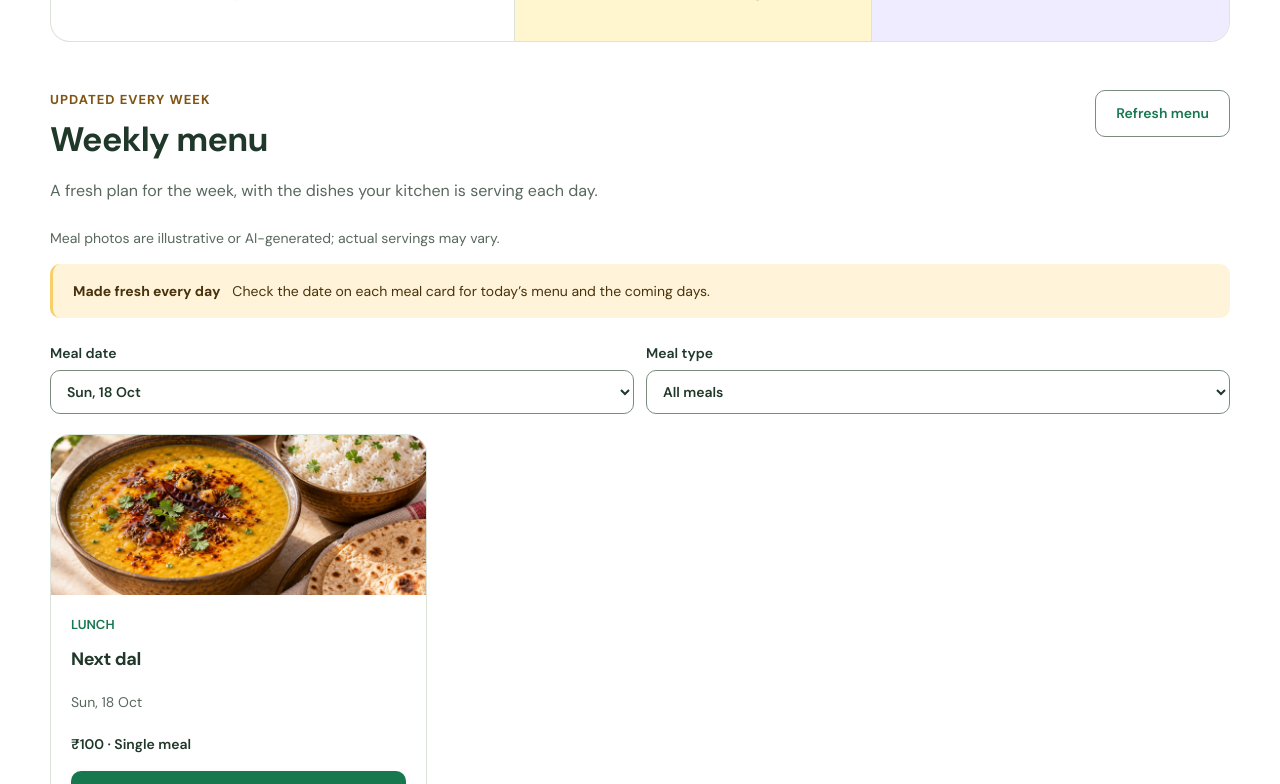
Scenario: retains an unavailable date explicitly and offers recovery in public
(page scrolled)
Check: the heading "Next dal" is shown, box [71, 648, 141, 671]
Select "All dates" in the dropdown labelled "Meal date". click: (342, 392)
box: [50, 370, 634, 414]
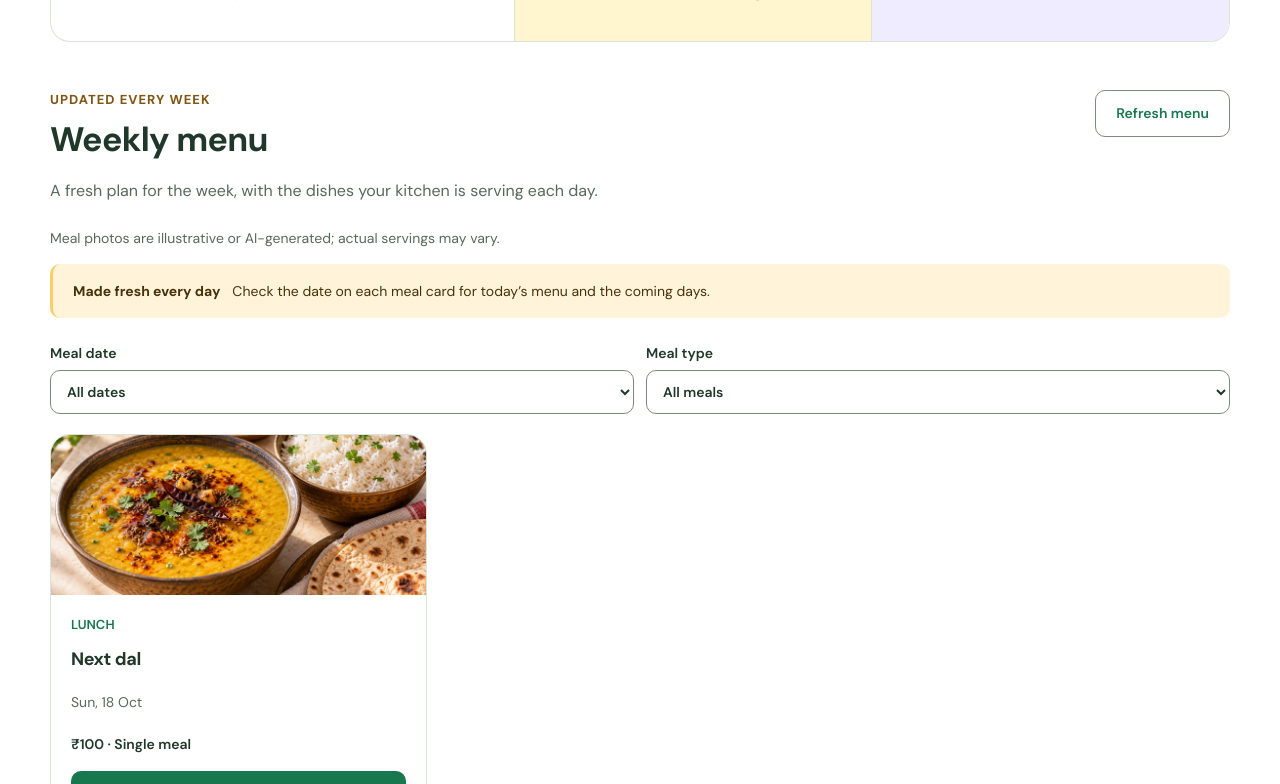
Select "Sun, 18 Oct" in the dropdown labelled "Meal date". click: (342, 392)
box: [50, 370, 634, 414]
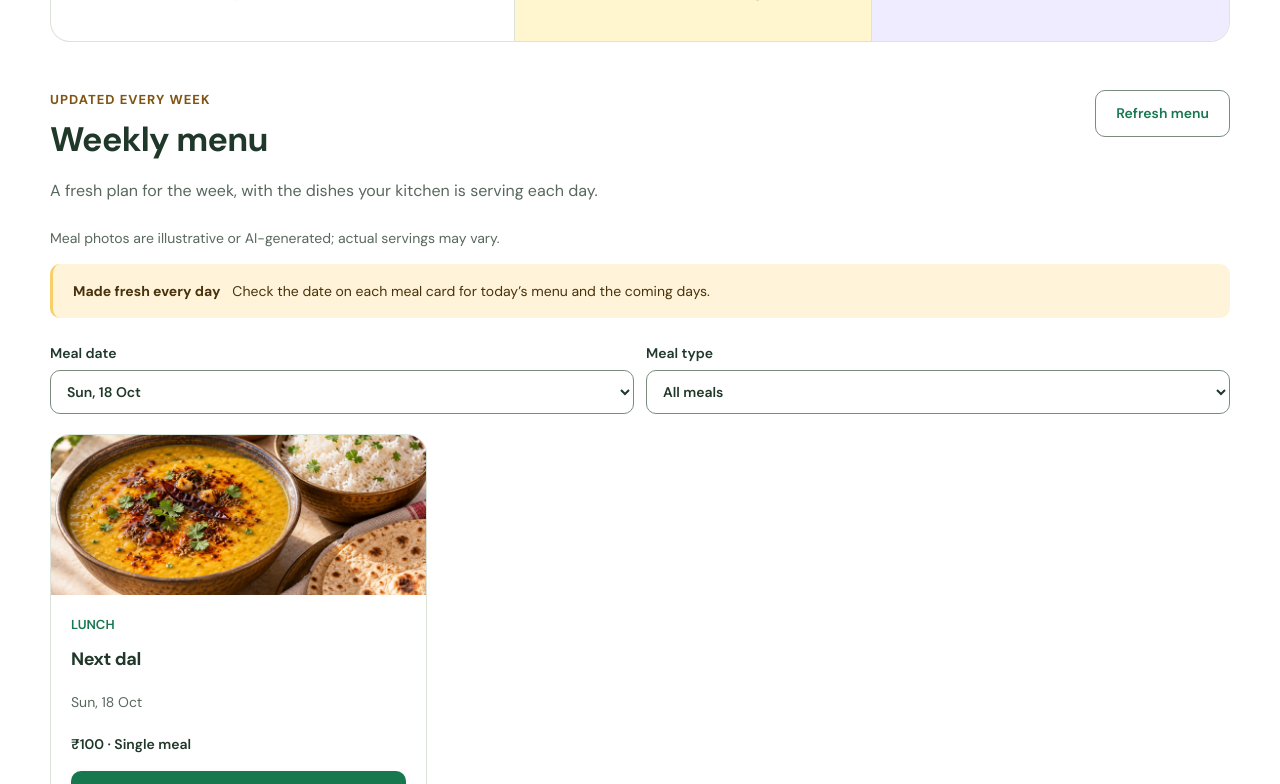
Click the button "Refresh menu". click: (1163, 114)
box: [1095, 90, 1230, 137]
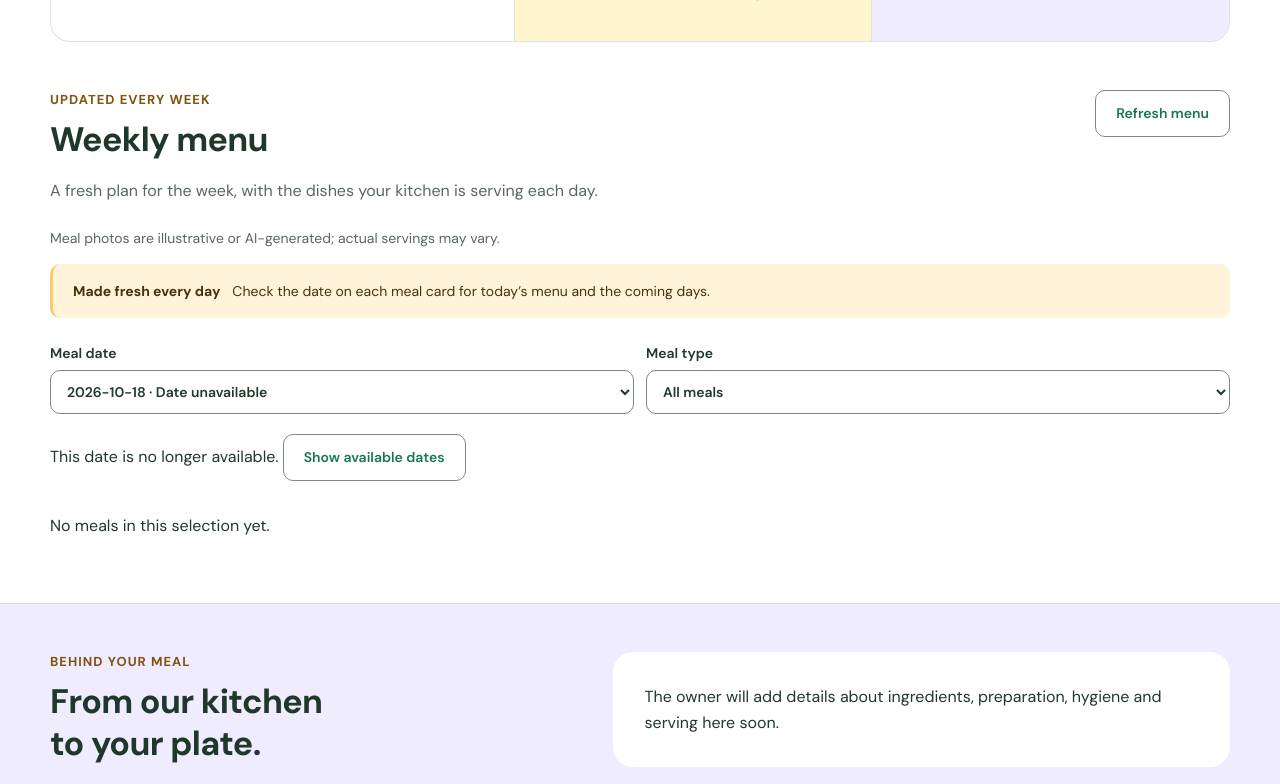
Click the button "Show available dates". click: (374, 458)
box: [283, 434, 466, 481]
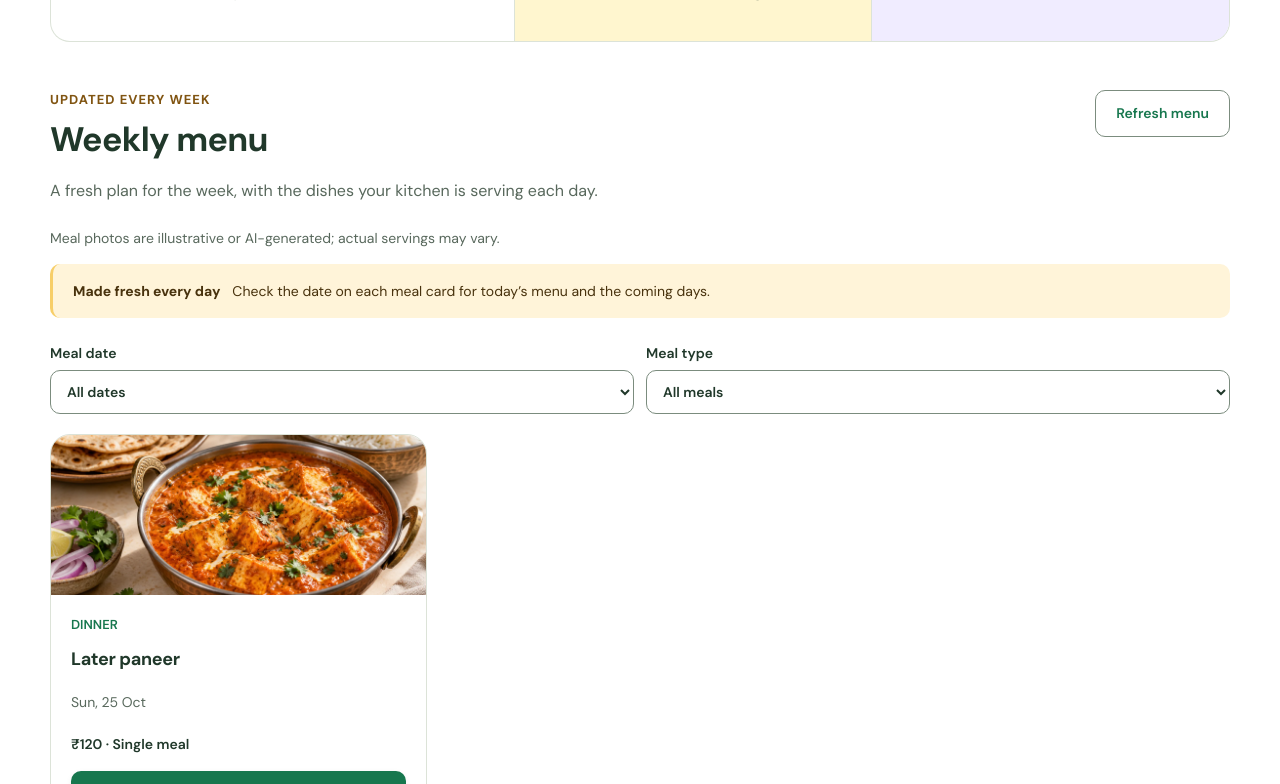
Check: the heading "Later paneer" is shown, box [71, 648, 180, 671]
